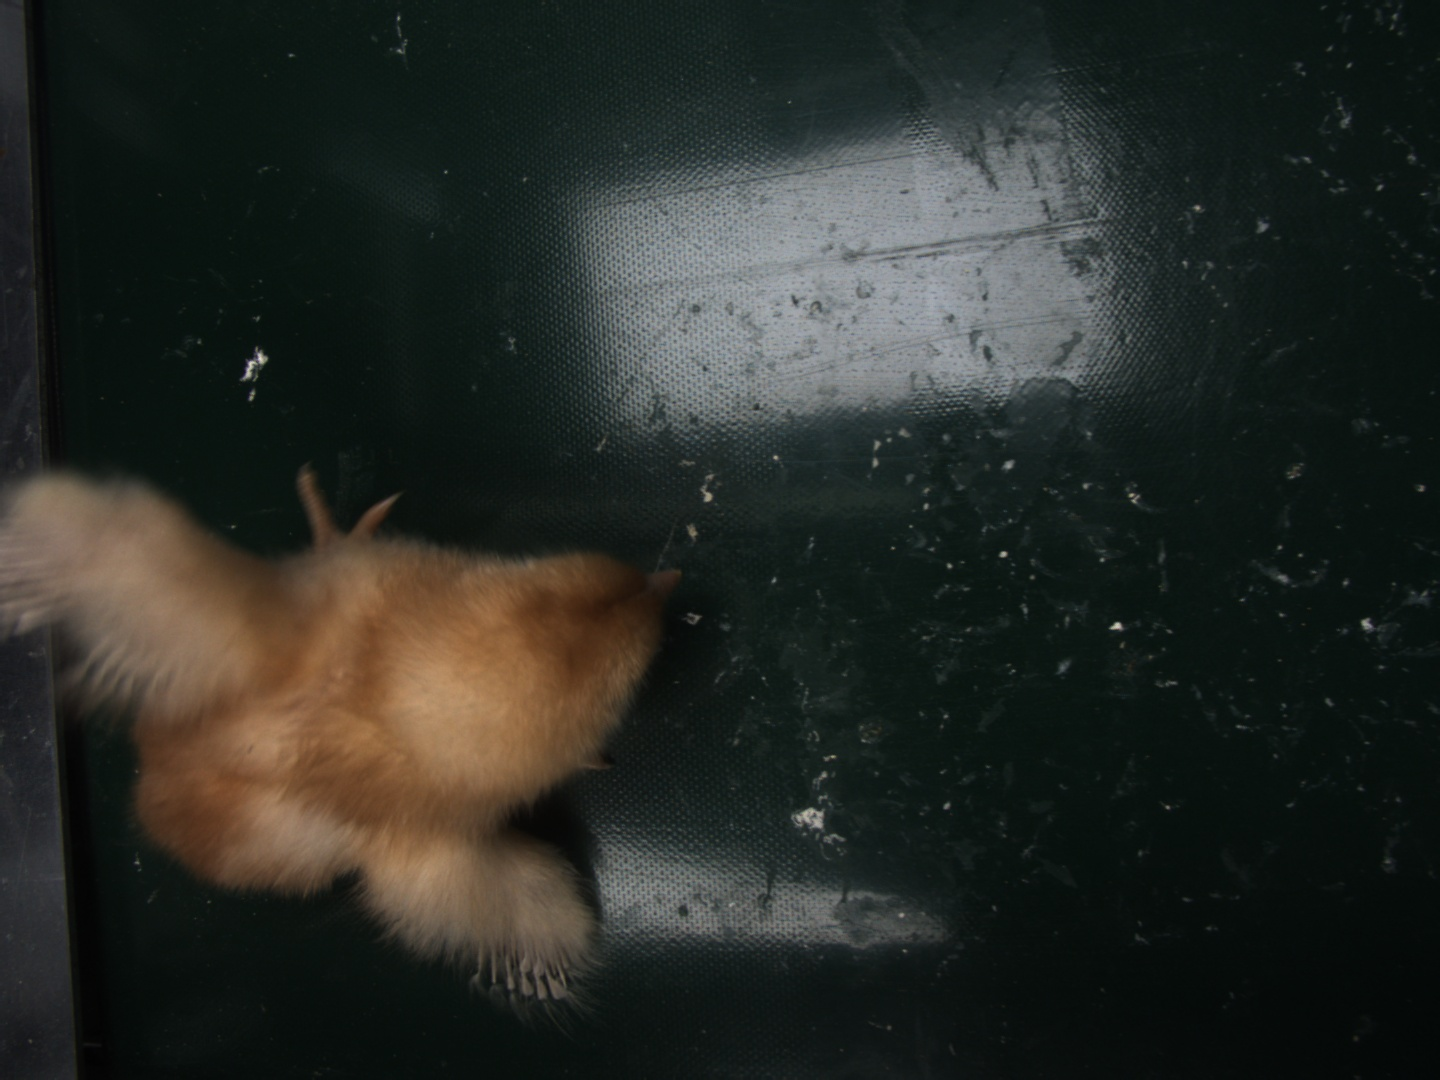female: (474, 940, 571, 997)
